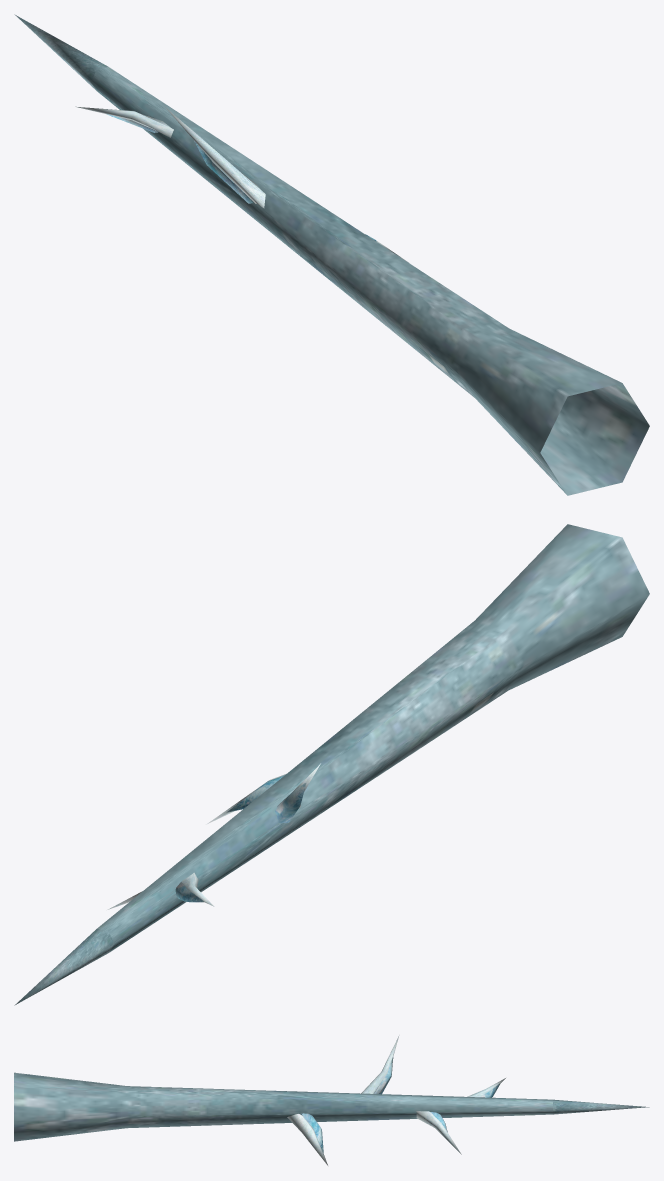
3 renders of one model, top to bottom at view 1: azimuth 30°, elevation 25°; view 2: azimuth 150°, elevation 25°; view 3: azimuth 270°, elevation 25°, orthographic. The views are drawn at different scales.
Parts seen in each view (by area): view 1: Object15; view 2: Object15; view 3: Object15.
Part boxes in pixels (box(x1,y1,x2,y2)): Object15: box(14, 14, 649, 495); Object15: box(14, 524, 649, 1005); Object15: box(14, 1035, 649, 1165).
Size of the model in its own units: 34938 by 28383 by 194508.
